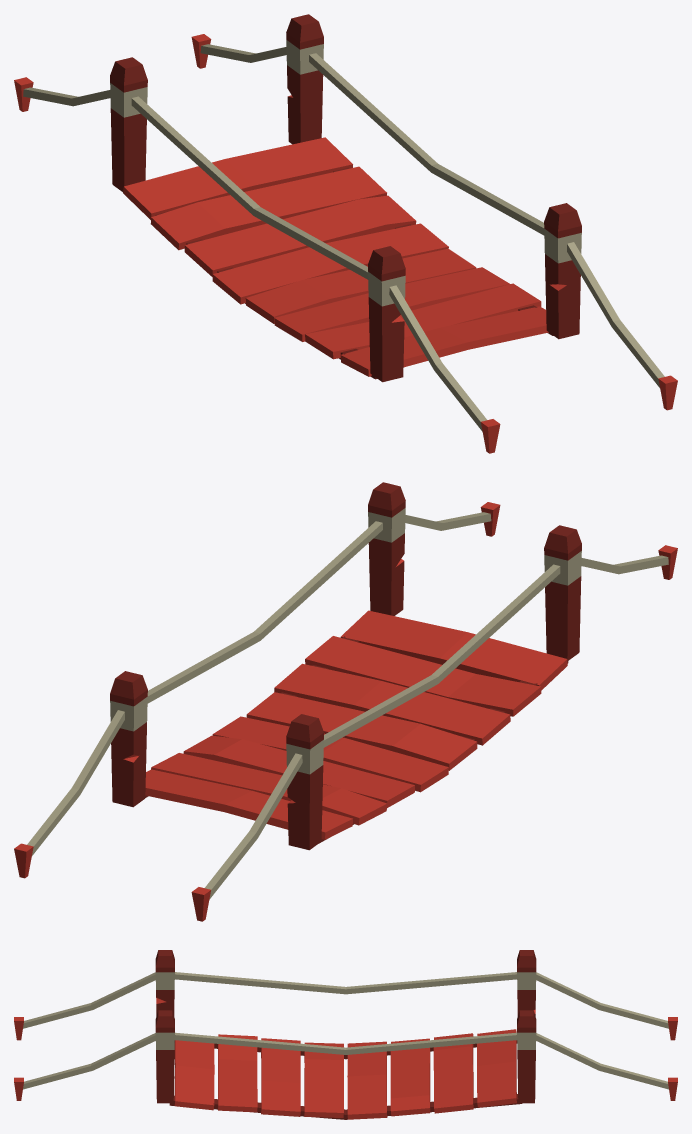
The model's file is Bridge_4_Red.fbx.
3 renders of one model, top to bottom at view 1: azimuth 30°, elevation 25°; view 2: azimuth 150°, elevation 25°; view 3: azimuth 270°, elevation 25°, orthographic. The views are drawn at different scales.
Parts seen in each view (by area): view 1: Bridge_4_Red_Part_1, Bridge_4_Red_Part_3, Bridge_4_Red_Part_2; view 2: Bridge_4_Red_Part_1, Bridge_4_Red_Part_3, Bridge_4_Red_Part_2; view 3: Bridge_4_Red_Part_1, Bridge_4_Red_Part_3, Bridge_4_Red_Part_2.
Part boxes in pixels (x1,y1,x2,y2): Bridge_4_Red_Part_1: (14,34,677,453); Bridge_4_Red_Part_3: (23,40,664,431); Bridge_4_Red_Part_2: (110,14,581,382); Bridge_4_Red_Part_1: (14,502,677,921); Bridge_4_Red_Part_3: (27,508,668,899); Bridge_4_Red_Part_2: (110,482,581,850); Bridge_4_Red_Part_1: (14,997,677,1119); Bridge_4_Red_Part_3: (23,972,668,1089); Bridge_4_Red_Part_2: (155,950,536,1119).
Bounding box in the file's own units: 300 × 204 × 1183.
